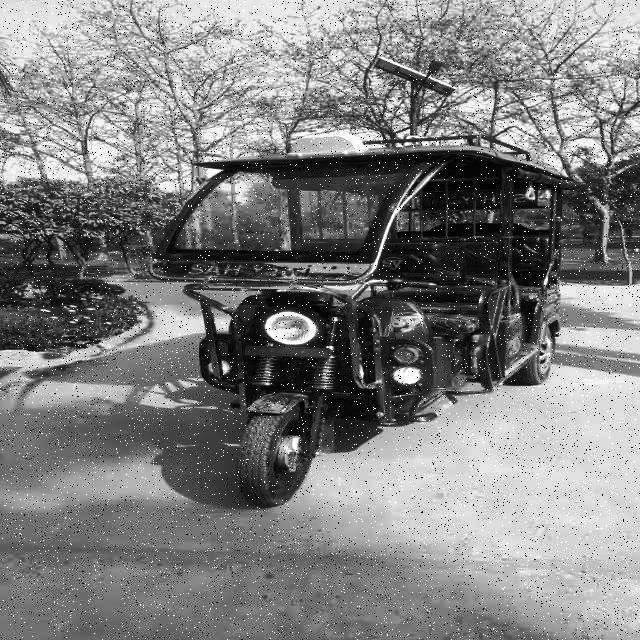Toto: (147, 127, 583, 508)
